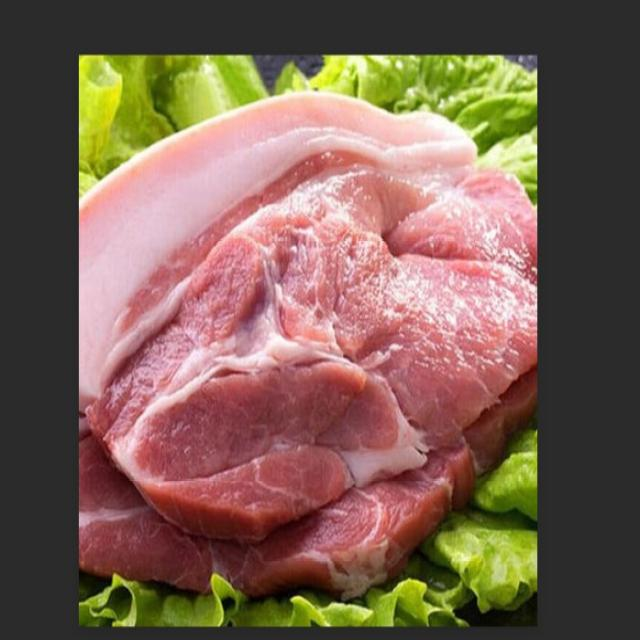--: (83, 97, 534, 581)
